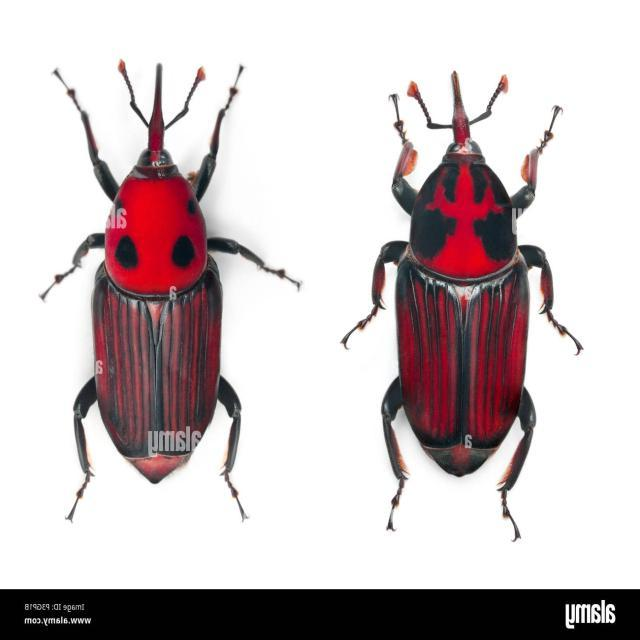Red-palm-weevil: (83, 56, 233, 486), (388, 67, 540, 481)
